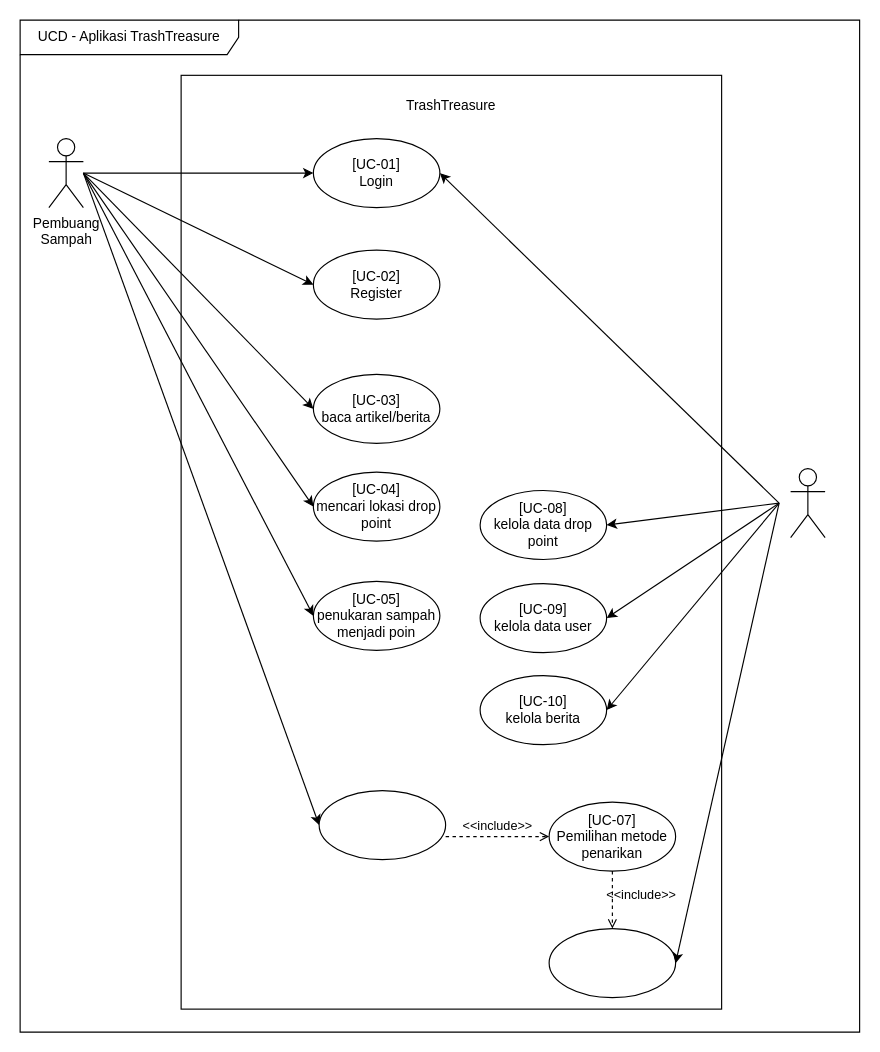
The diagram is 880 pixels wide and 1052 high, and some of its shapes have lost their labels. The centre of each missing label's shape, as x and y in pixels:
"[UC-06] penukaran poin menjadi uang" goes at [382,824].
"[UC-11] Penarikan" goes at [612,962].
"Admin" goes at [807,502].
